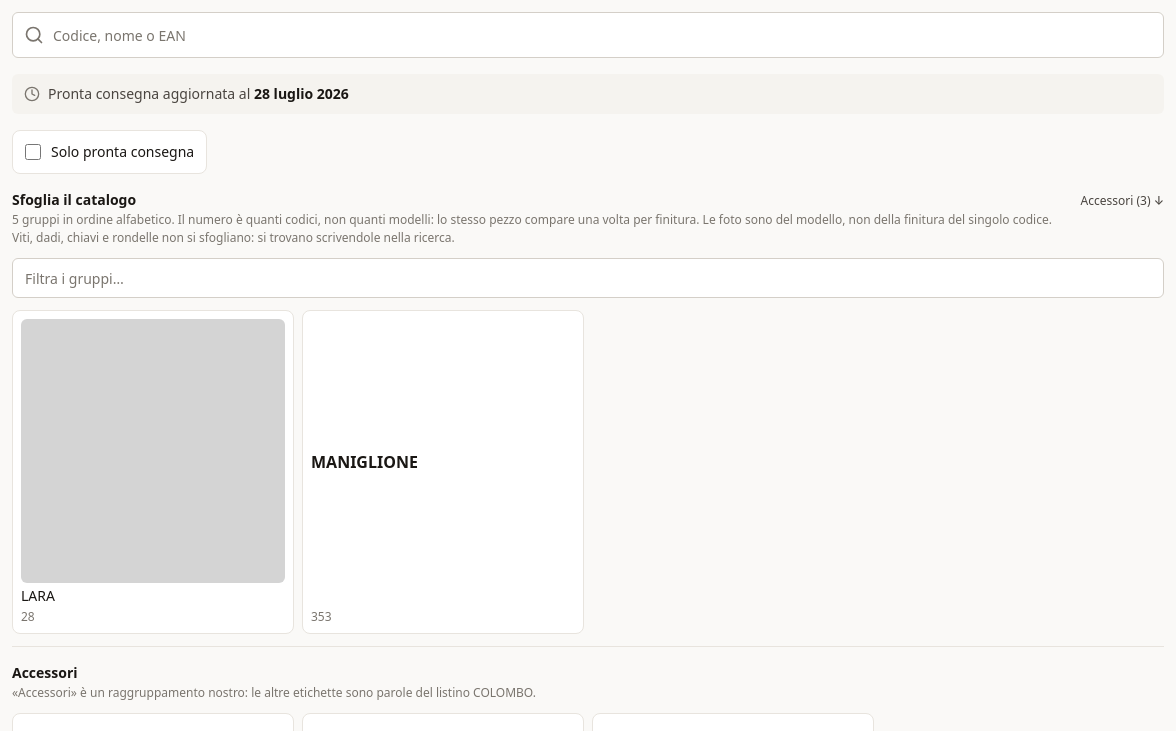
Test: ManiglieClient — sfoglio › se il filtro non trova nulla lo dice, e rimanda alla ricerca vera
Type "zzz" into the field with placeholder "Filtra i gruppi…" at (588, 278), box 12,258 -> 1164,298
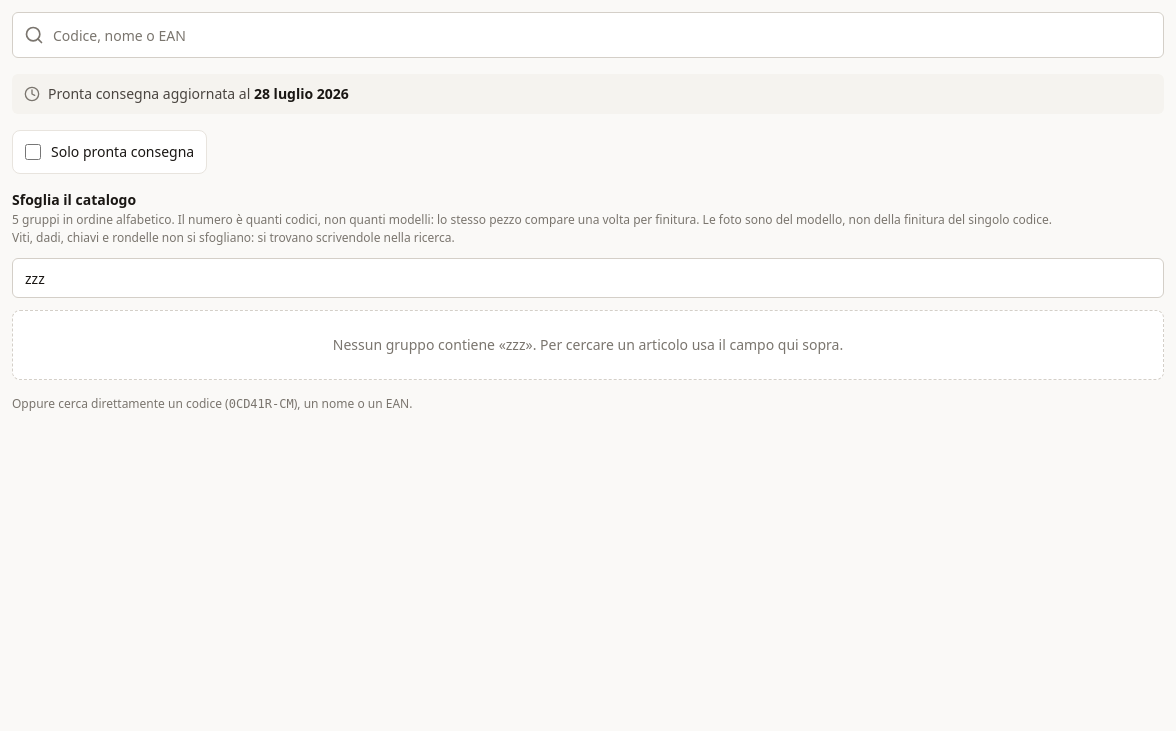
Check: the text "Nessun gruppo contiene «zzz»" is shown, box 333,335 -> 843,354
